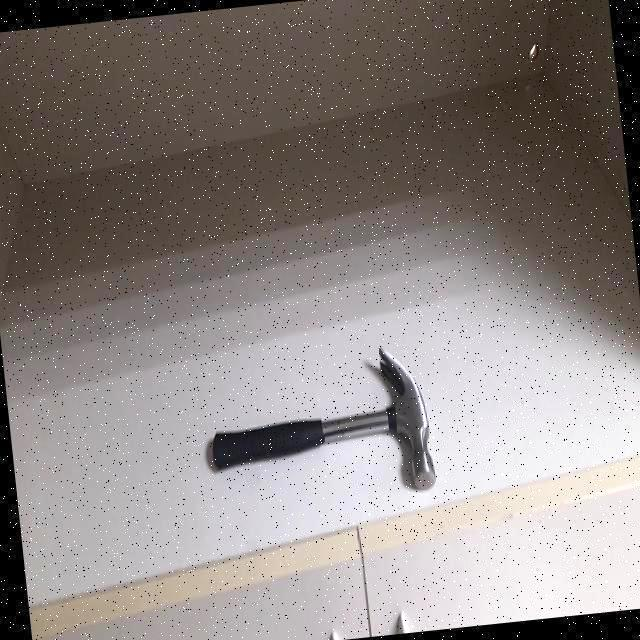hammer: (213, 345, 434, 491)
